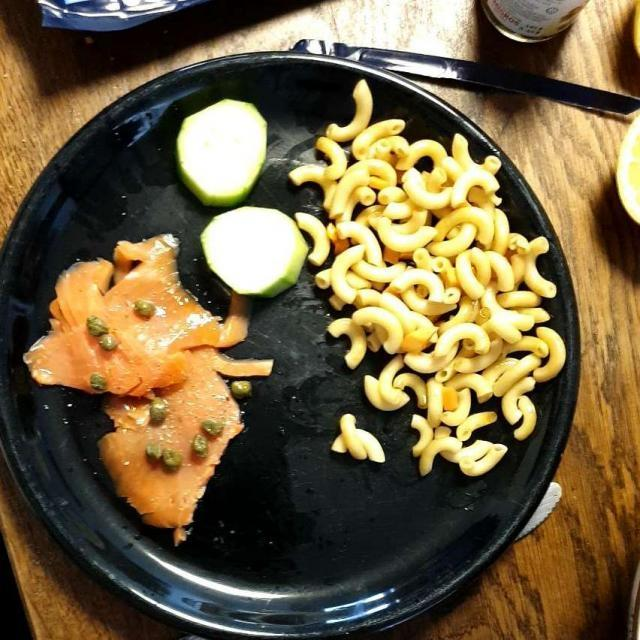cucumber: (160, 100, 314, 292)
pasta: (287, 81, 562, 473)
salmon: (27, 239, 264, 531)
